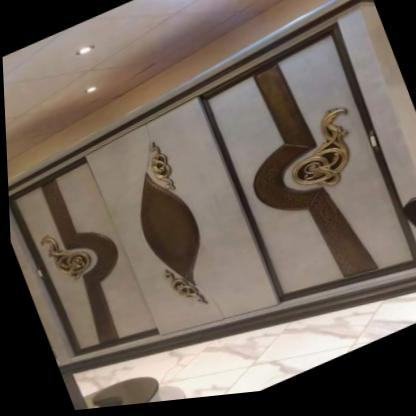Ceramic floor: (84, 301, 416, 402)
Closet: (6, 0, 416, 360)
